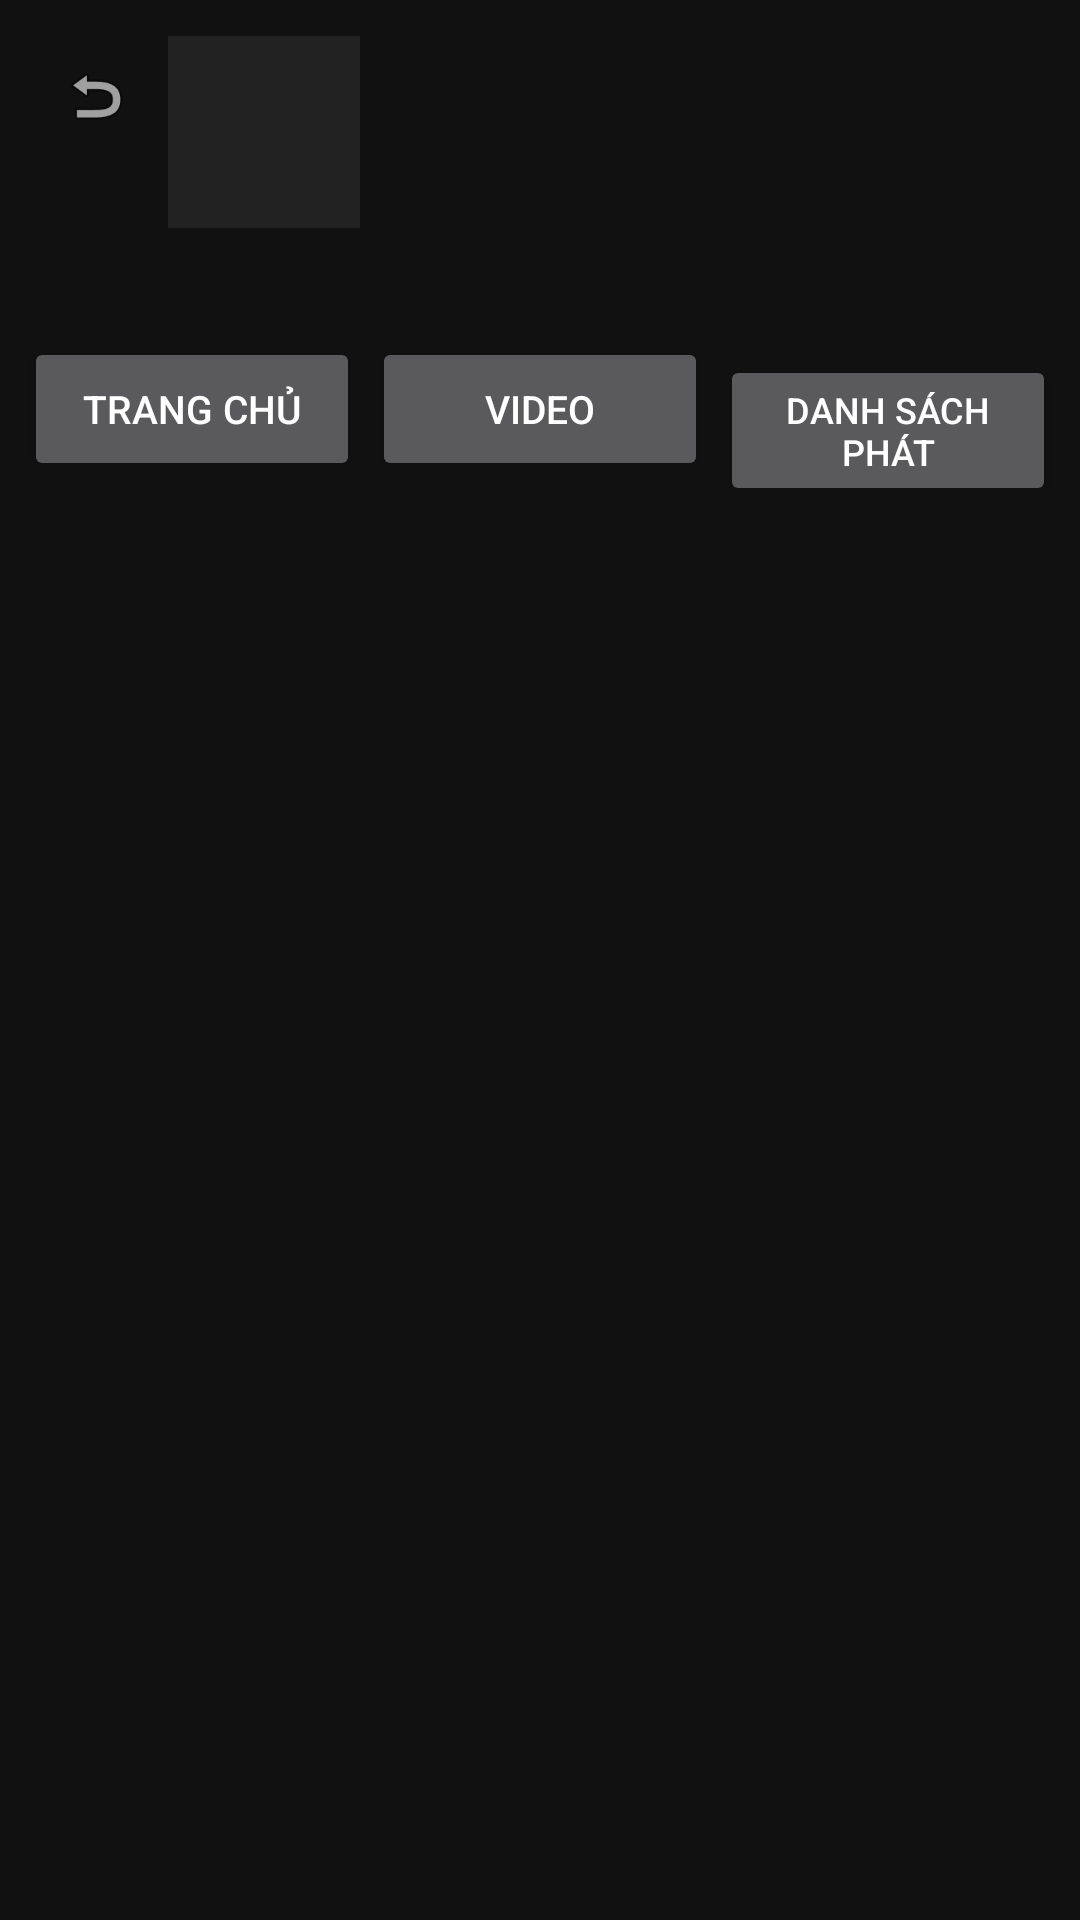

Icons on this 1080×1920 Android screen, each with its box as rect(x1, y1, x2, y2):
Quay lại: rect(73, 75, 121, 118)
